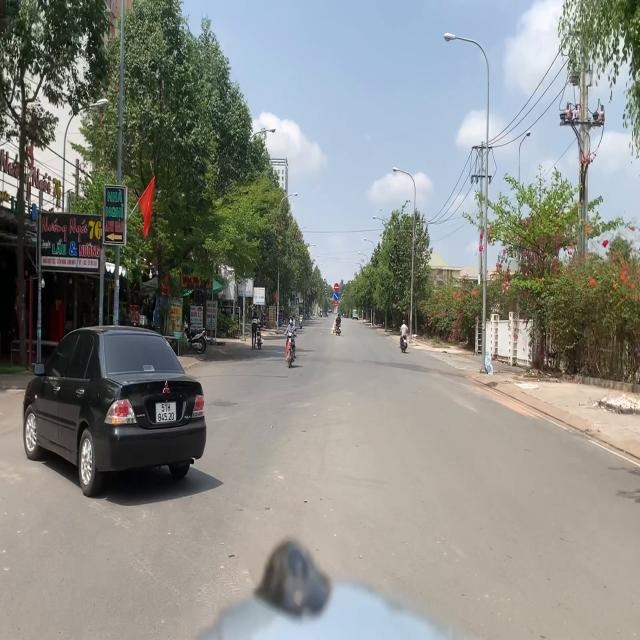Cam nguoc chieu: (334, 282, 339, 292)
Hieu lenh: (334, 292, 338, 300)
